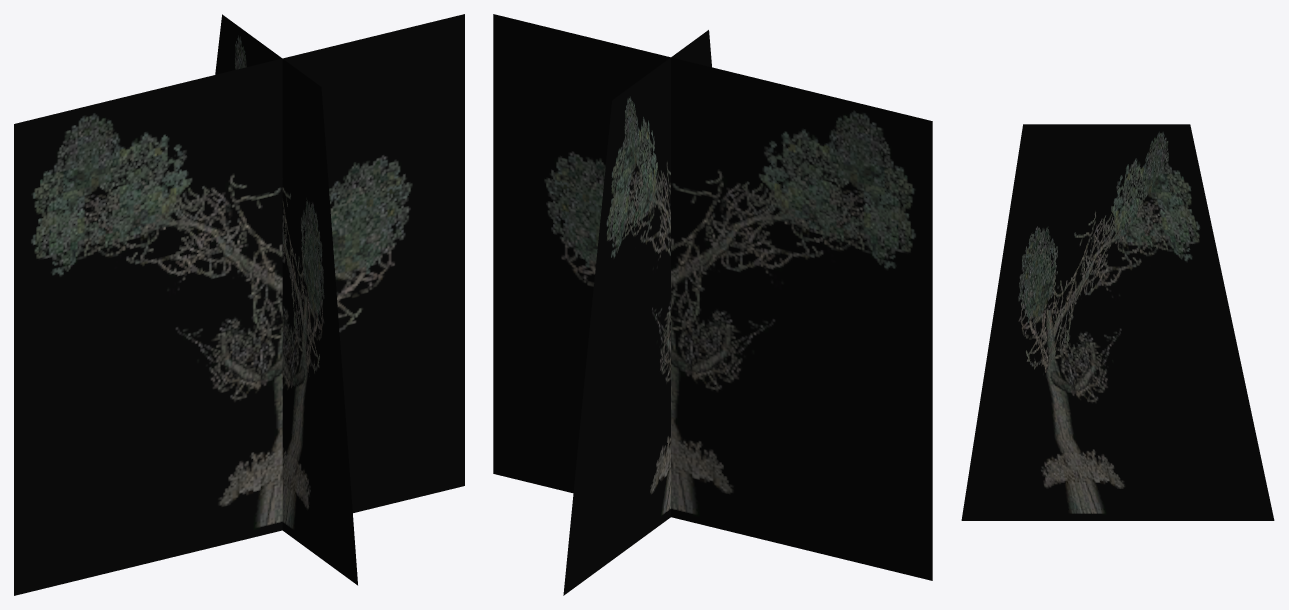
The model's file is ever_torreypinetree_a1_l3.fbx.
3 views of the same model, side by side, from view 1: azimuth 30°, elevation 25°; view 2: azimuth 150°, elevation 25°; view 3: azimuth 270°, elevation 25° (orthographic). The views are drawn at different scales.
Parts seen in each view (by area): view 1: mesh_node; view 2: mesh_node; view 3: mesh_node.
Boxes of the visible parts, bbox=[...] form: mesh_node: bbox=[14, 14, 464, 595]; mesh_node: bbox=[493, 14, 932, 595]; mesh_node: bbox=[961, 124, 1274, 520].
Size of the model in its own units: 7.08 by 7.08 by 5.06.
1 material, 1 textured.
